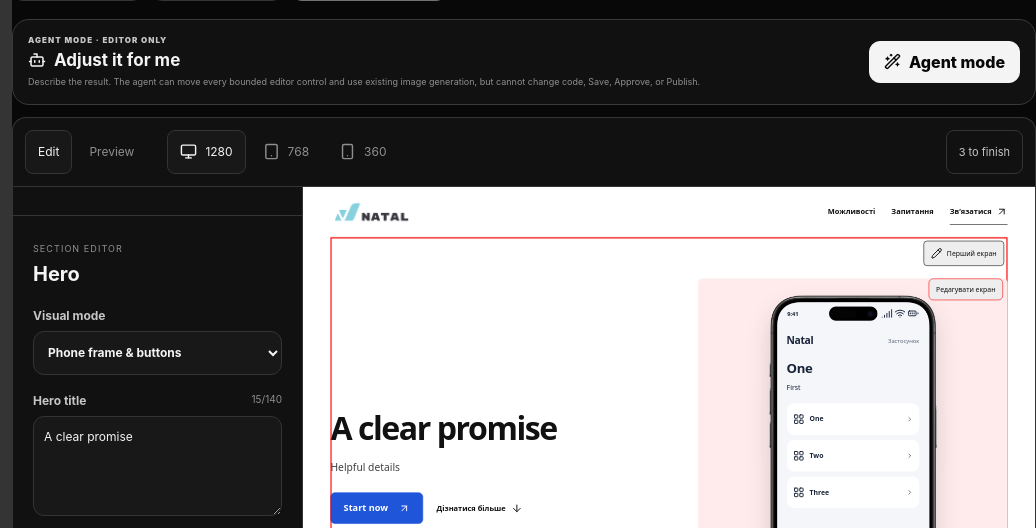
Test: keeps owner input and the original conflict when the latest Landing differs
(page scrolled)
Replace the text in the text box labelled "Hero title" with "Keep this pending headline" at (158, 466), box [33, 416, 282, 516]
(page scrolled)
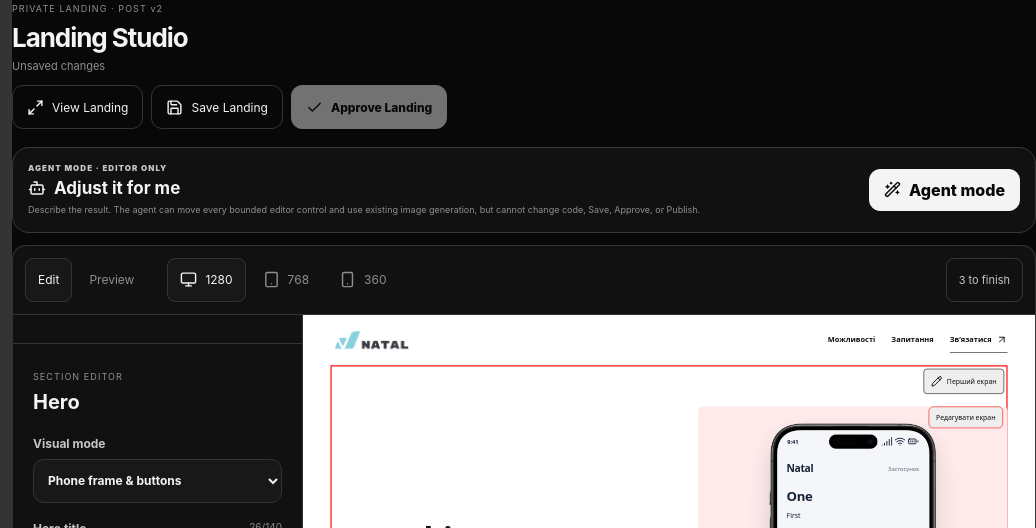
Click the button "Save Landing" at (217, 107), box [152, 85, 283, 129]
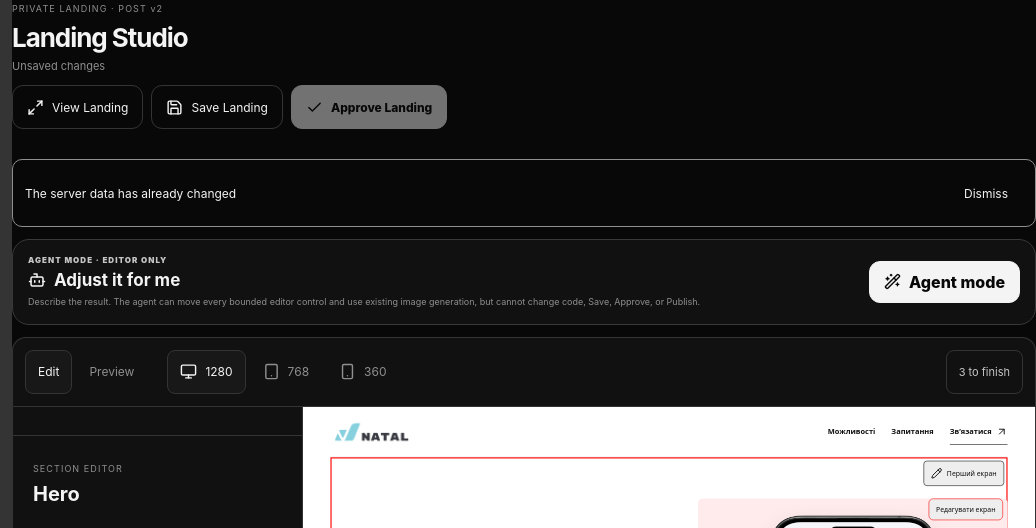
Now the message "The server data has already changed Dismiss" is shown, box [12, 159, 1035, 227]
